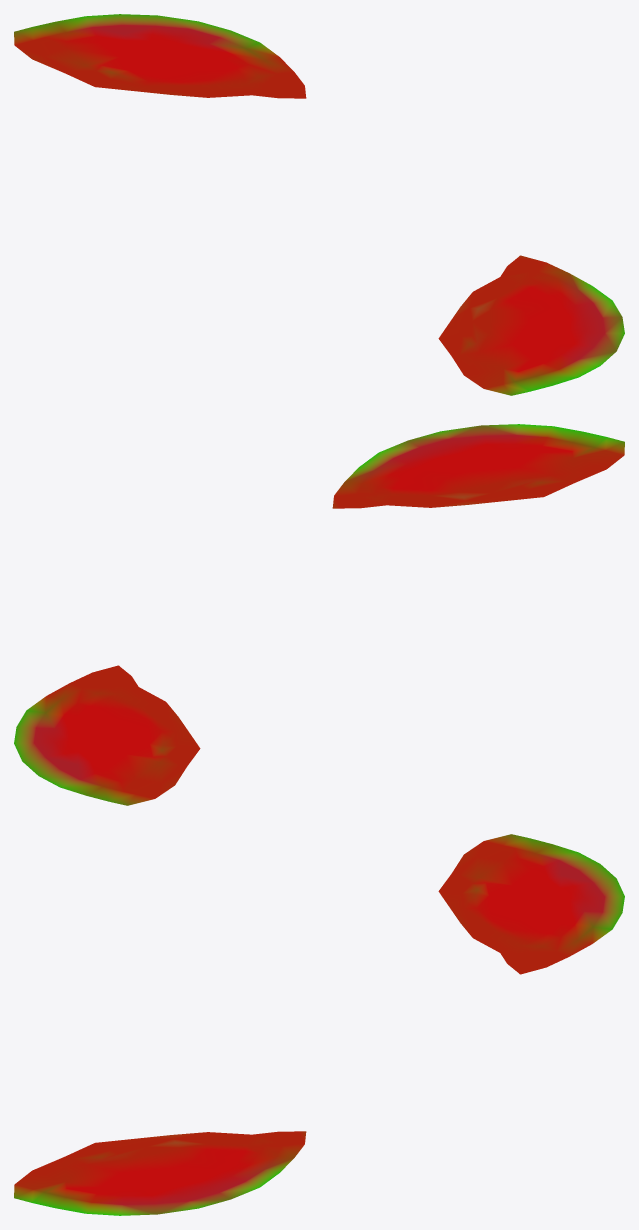
The model's file is pref_sm_beach_winter_iceground02_lv3.fbx.
3 renders of one model, top to bottom at view 1: azimuth 30°, elevation 25°; view 2: azimuth 150°, elevation 25°; view 3: azimuth 330°, elevation 25°, orthographic.
Visible parts, largest first — view 1: pref_sm_beach_winter_iceground02_lv3; view 2: pref_sm_beach_winter_iceground02_lv3; view 3: pref_sm_beach_winter_iceground02_lv3.
Boxes of the visible parts, x1,y1,x2,y2 form: pref_sm_beach_winter_iceground02_lv3: [14, 14, 624, 395]; pref_sm_beach_winter_iceground02_lv3: [14, 424, 624, 805]; pref_sm_beach_winter_iceground02_lv3: [14, 834, 624, 1215].
Size of the model in its own units: 5.27 by 1.16e-05 by 24.16.
